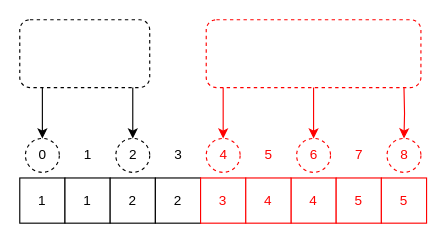
The diagram is 446 pixels wide and 243 high, and some of its shapes have lost their labels. Each missing label, with the centre of its shape:
The value to the right either does not exist or is different.: the point at 313,53
The value to the right is the same.: the point at 84,53
